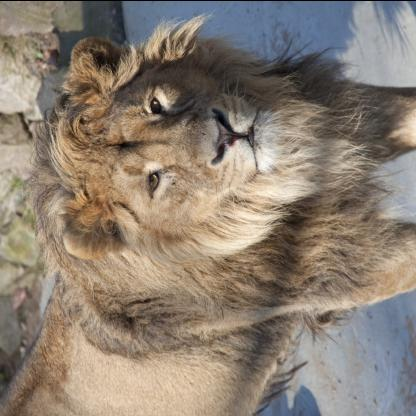lion: (53, 30, 312, 282)
